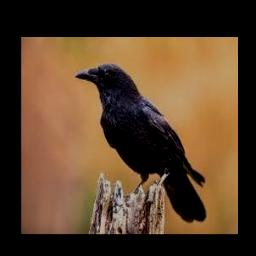Crow: (75, 64, 207, 223)
